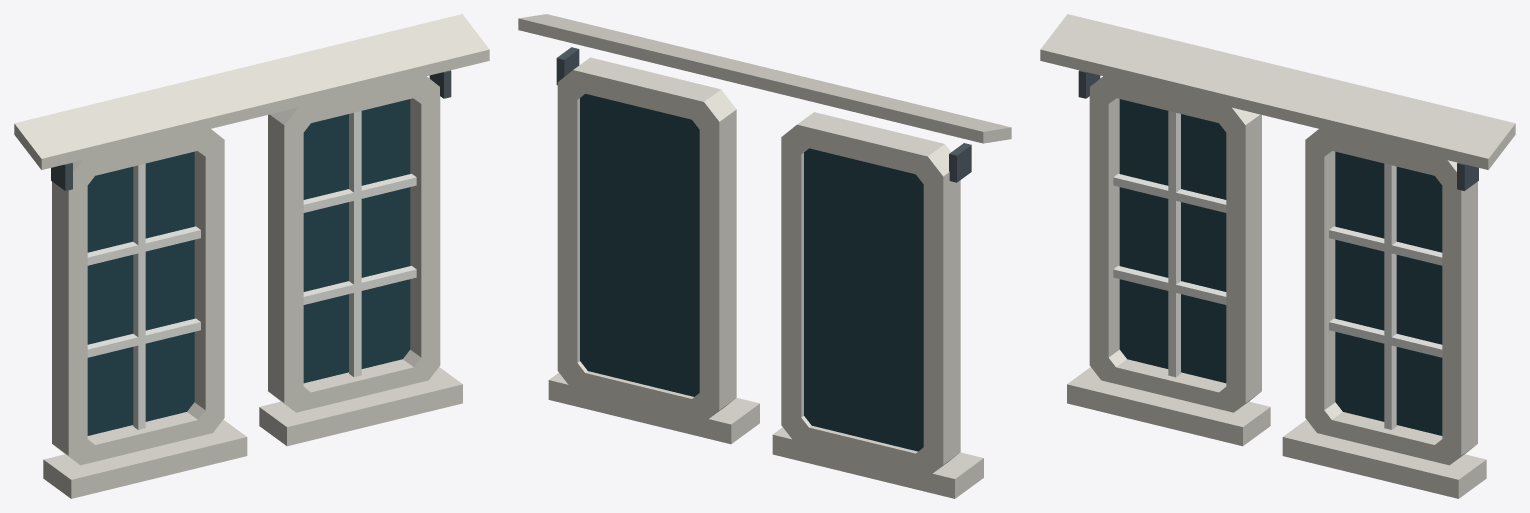
File: FacadeHeritage.fbx
3 renders of one model, left to right at view 1: azimuth 30°, elevation 25°; view 2: azimuth 150°, elevation 25°; view 3: azimuth 330°, elevation 25°, orthographic. The views are drawn at different scales.
Visible parts, largest first — view 1: FacadeHeritage_SC_Concrete, FacadeHeritage_SC_Glass, FacadeHeritage_SC_White, FacadeHeritage_SC_Metal; view 2: FacadeHeritage_SC_Concrete, FacadeHeritage_SC_Glass, FacadeHeritage_SC_Metal; view 3: FacadeHeritage_SC_Concrete, FacadeHeritage_SC_Glass, FacadeHeritage_SC_White, FacadeHeritage_SC_Metal.
Boxes of the visible parts, x1=… form: FacadeHeritage_SC_Concrete: x1=14, y1=14, x2=489, y2=498; FacadeHeritage_SC_Glass: x1=87, y1=99, x2=410, y2=435; FacadeHeritage_SC_White: x1=87, y1=111, x2=416, y2=429; FacadeHeritage_SC_Metal: x1=51, y1=70, x2=451, y2=190; FacadeHeritage_SC_Concrete: x1=518, y1=14, x2=1011, y2=498; FacadeHeritage_SC_Glass: x1=580, y1=94, x2=923, y2=451; FacadeHeritage_SC_Metal: x1=556, y1=47, x2=971, y2=182; FacadeHeritage_SC_Concrete: x1=1040, y1=14, x2=1515, y2=498; FacadeHeritage_SC_Glass: x1=1119, y1=99, x2=1442, y2=435; FacadeHeritage_SC_White: x1=1113, y1=111, x2=1442, y2=429; FacadeHeritage_SC_Metal: x1=1078, y1=70, x2=1478, y2=190.
Bounding box in the file's own units: 2.7 × 2.08 × 0.304.
